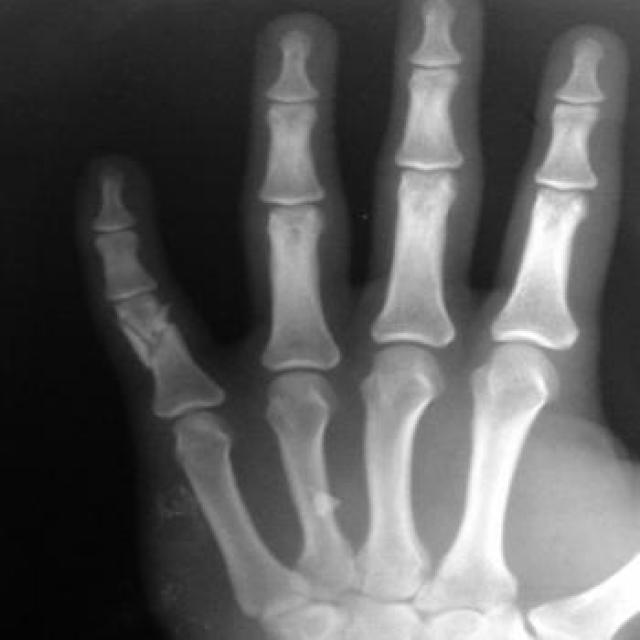Fracture: (115, 302, 191, 379)
